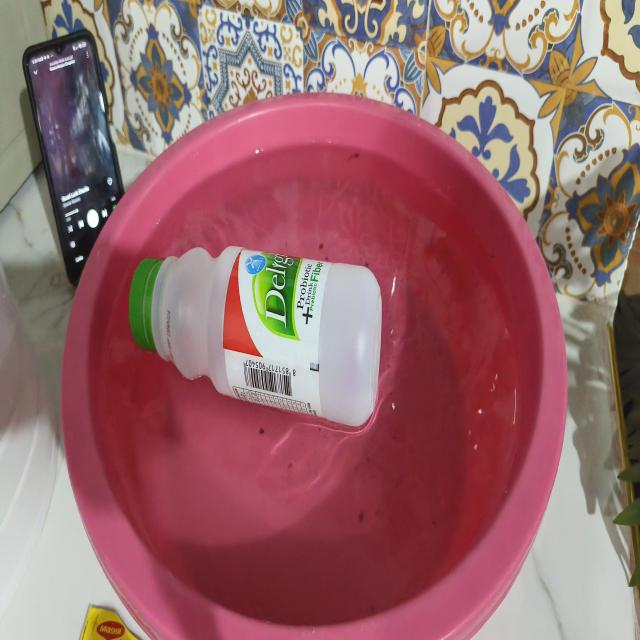Plastic Bottle: (112, 220, 402, 448)
